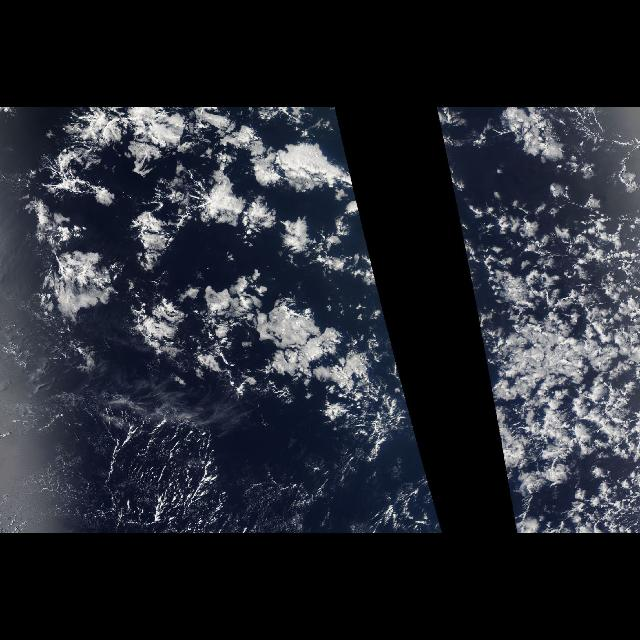Flower: (18, 132, 406, 432)
